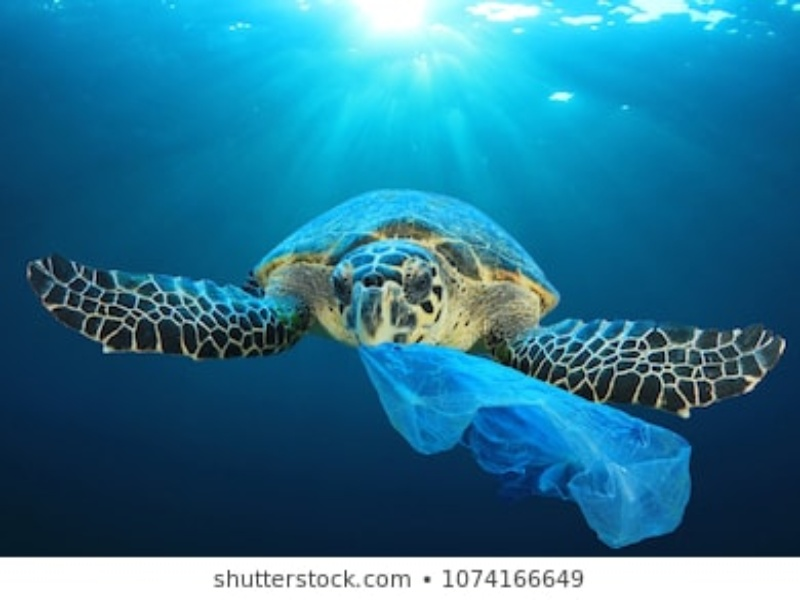plastic-bag: (356, 345, 694, 548)
